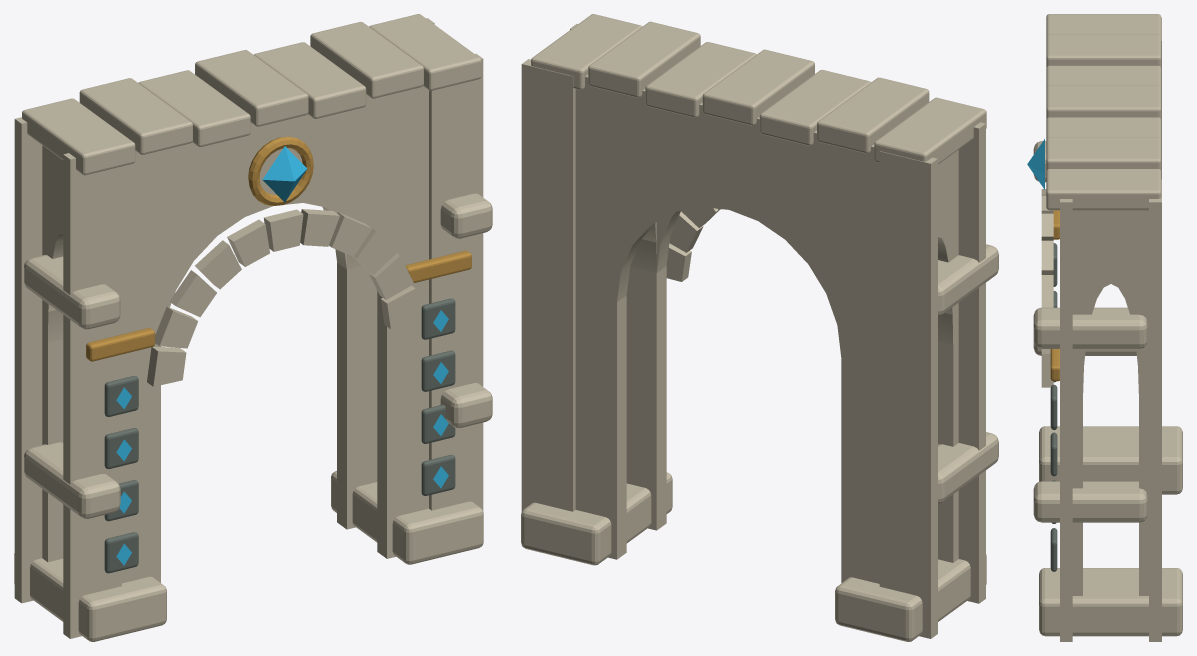
The model's file is exit-gate-v1.glb.
The picture shows the model from 3 angles, left to right: view 1: azimuth 30°, elevation 25°; view 2: azimuth 150°, elevation 25°; view 3: azimuth 270°, elevation 25°; orthographic projection. The views are drawn at different scales.
Parts seen in each view (by area): view 1: CC0 ancient arch, Carved plinth, Carved plinth.001, Broken crown stone, Broken crown stone.003, Broken crown stone.005, Broken crown stone.001, Broken crown stone.004, Broken crown stone.002, Broken crown stone.006, Old edge stone, Old edge stone.001 (+24 smaller); view 2: CC0 ancient arch, Carved plinth, Carved plinth.001, Broken crown stone.005, Broken crown stone.003, Broken crown stone.001, Broken crown stone, Broken crown stone.002, Broken crown stone.004, Broken crown stone.006, Old edge stone, Old edge stone.001 (+2 smaller); view 3: CC0 ancient arch, Carved plinth.001, Carved plinth, Broken crown stone.006, Old edge stone.002, Old edge stone.003, Broken crown stone.003, Broken crown stone.001, Broken crown stone.005, Broken crown stone.004, Broken crown stone.002, Broken crown stone (+10 smaller).
Part boxes in pixels (x1,y1,x2,y2): CC0 ancient arch: (14, 18, 483, 638); Carved plinth: (14, 553, 166, 641); Carved plinth.001: (331, 471, 483, 564); Broken crown stone: (22, 98, 135, 175); Broken crown stone.003: (195, 50, 308, 126); Broken crown stone.005: (310, 21, 423, 98); Broken crown stone.001: (79, 78, 192, 154); Broken crown stone.004: (254, 42, 366, 118); Broken crown stone.002: (138, 70, 250, 146); Broken crown stone.006: (369, 14, 481, 90); Old edge stone: (24, 442, 120, 518); Old edge stone.001: (24, 255, 120, 329); CC0 ancient arch: (521, 24, 985, 638); Carved plinth: (835, 554, 986, 641); Carved plinth.001: (521, 472, 672, 565); Broken crown stone.005: (588, 21, 700, 97); Broken crown stone.003: (702, 49, 814, 125); Broken crown stone.001: (817, 77, 929, 153); Broken crown stone: (874, 97, 986, 164); Broken crown stone.002: (759, 69, 871, 145); Broken crown stone.004: (645, 42, 756, 117); Broken crown stone.006: (531, 14, 642, 89); Old edge stone: (938, 432, 998, 503); Old edge stone.001: (938, 244, 998, 315); CC0 ancient arch: (1060, 17, 1161, 641); Carved plinth.001: (1039, 568, 1182, 636); Carved plinth: (1039, 426, 1182, 494); Broken crown stone.006: (1046, 169, 1161, 210); Old edge stone.002: (1033, 481, 1147, 522); Old edge stone.003: (1033, 307, 1147, 348); Broken crown stone.003: (1046, 85, 1161, 119); Broken crown stone.001: (1046, 34, 1161, 67); Broken crown stone.005: (1046, 137, 1161, 170); Broken crown stone.004: (1046, 117, 1161, 139); Broken crown stone.002: (1046, 65, 1161, 87); Broken crown stone: (1046, 14, 1161, 36).
Bounding box in the file's own units: 3.67 × 4.17 × 1.3.
